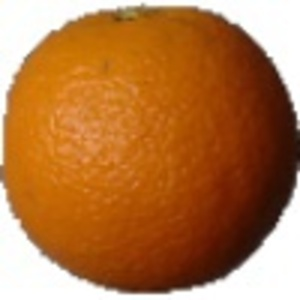laranja: (5, 3, 296, 295)
